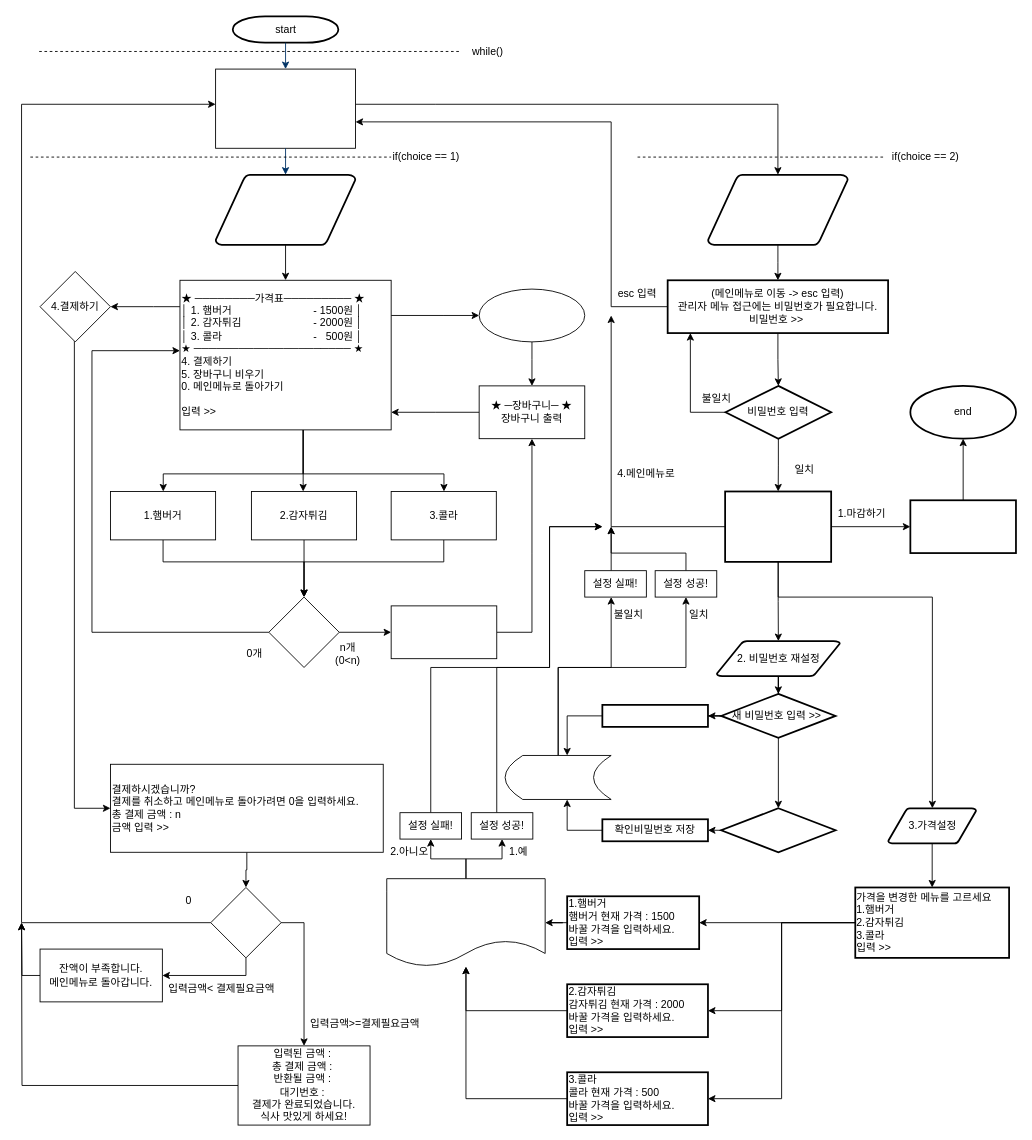
Image size: 1032x1140. Some labels were removed from this diagram. Each missing label, with the centre of its shape:
"1.마감하기 2.비밀번호재설정 3.가격 설정 4.메인메뉴로 입력 >>" belongs at [778,526].
"1.주문하기" belongs at [285,209].
"2. 관리자메뉴" belongs at [777,209].
"5.장바구니 비우기" belongs at [531,315].
"★☆★☆어서오세요★☆★☆ ┌───────────────┐ │ 1.주문하기 │ │ 2.관리자메뉴 │ └───────────────┘ 입력 >>" belongs at [285,108].
"금액입력" belongs at [245,922].
"몇 개?" belongs at [303,631].
"비밀번호 확인 >>" belongs at [778,830].
"새 비밀번호 저장" belongs at [654,715].
"오늘도 고생했습니다." belongs at [962,526].
"이 가격으로 설정하시겠습니까? 1.예 2.아니오(메인메뉴로 이동) 입력 >>" belongs at [465,922].
"일치하는가?" belongs at [557,777].
"장바구니에 menu n개 추가완료!" belongs at [443,632].
